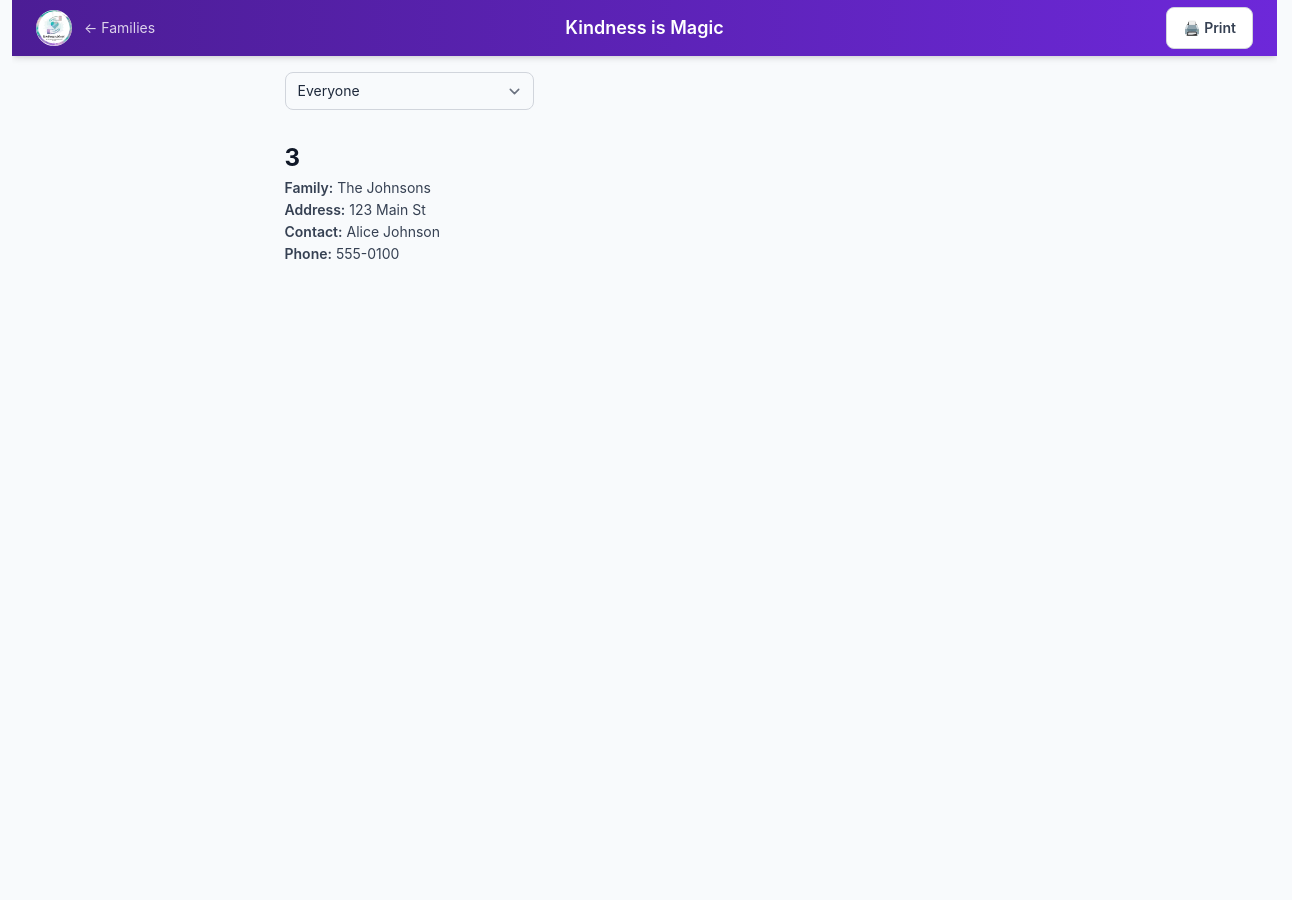
Test: AdminDeliverySlips › changing scope while family_ids is present clears family_ids and applies the scope
The width and height of the screenshot is (1292, 900).
expect the text "The Johnsons" is shown: met, box left=337, top=179, right=431, bottom=196
Select "Assigned (to anyone)" in the dropdown named "Scope" at (409, 91), box left=284, top=72, right=534, bottom=110
(page scrolled)
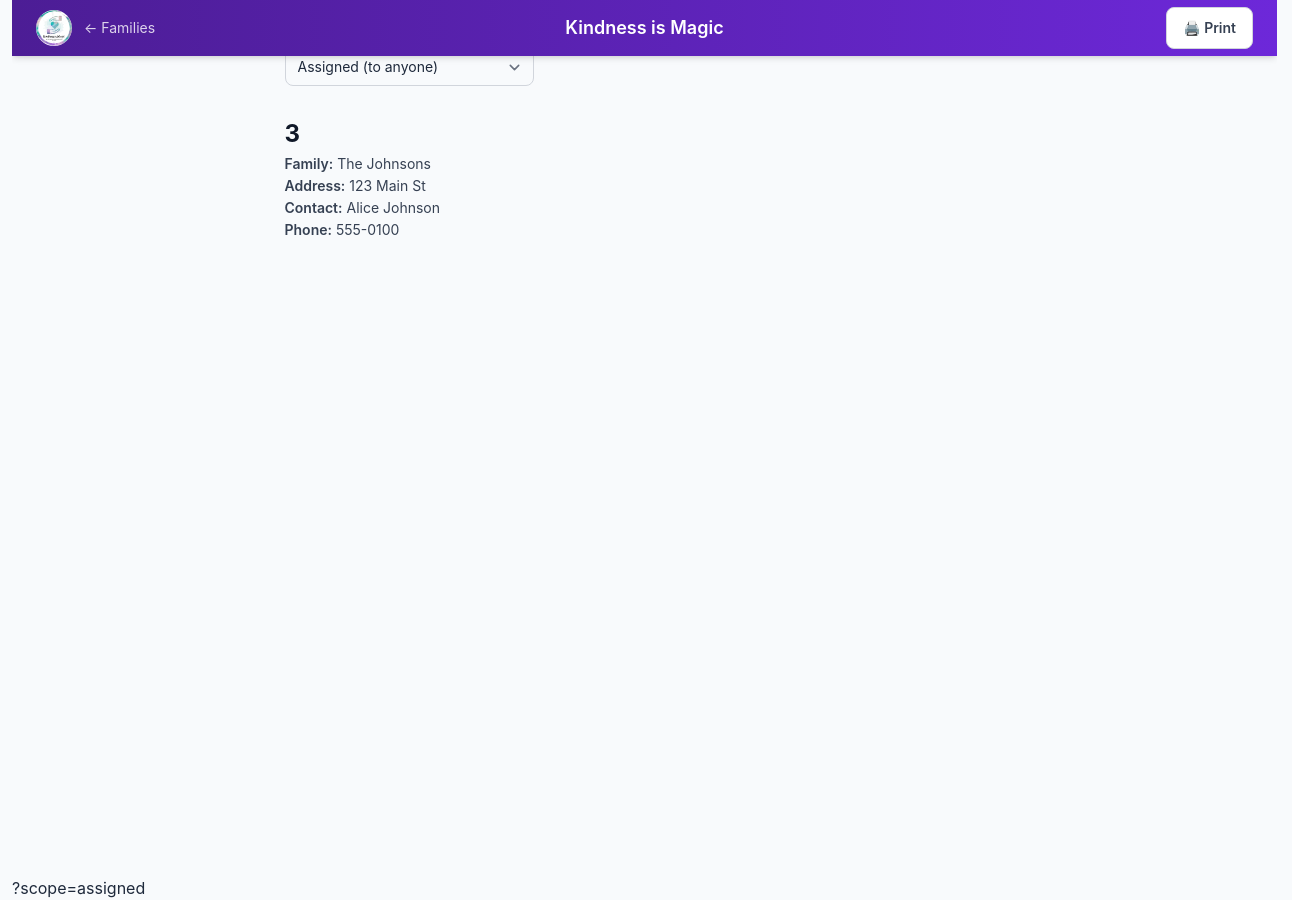
expect the text with test id "url-probe" reads "?scope=assigned": met, box left=12, top=878, right=145, bottom=898
